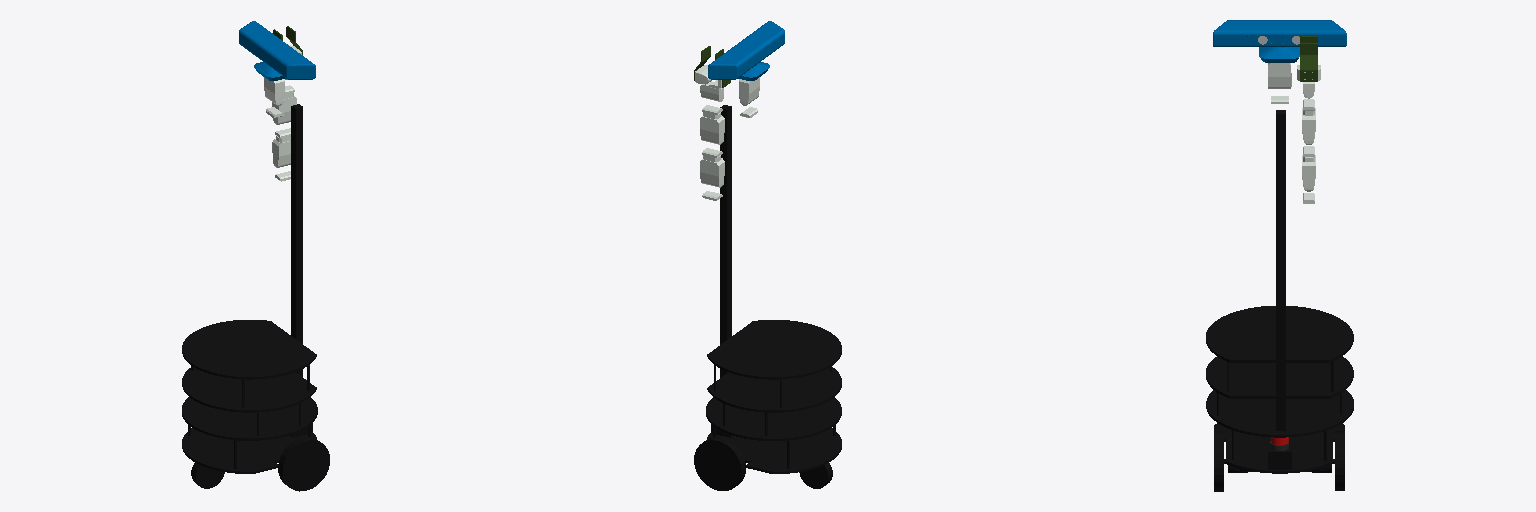
--- Render facts (derived) ---
Views: 3 orthographic renders of the robot side by side, from view 1: azimuth 30°, elevation 25°; view 2: azimuth 150°, elevation 25°; view 3: azimuth 270°, elevation 25°.
Robot: pi_robot — 43 links, 42 joints (7 revolute, 35 fixed); root link base_link; default pose: every joint at zero.
Links seen in each view (by area): view 1: base_link, kinect_link; view 2: base_link, kinect_link, arm_elbow_flex_link, arm_shoulder_lift_link; view 3: base_link, kinect_link, gripper_active_finger_link, bioloid_F4_head_10_link.
Boxes of the visible links, x1,y1,x2,y2 form: base_link: (182,104,329,491); kinect_link: (239,21,315,80); base_link: (694,105,841,490); kinect_link: (708,21,784,80); arm_elbow_flex_link: (700,115,724,144); arm_shoulder_lift_link: (700,158,724,187); base_link: (1206,110,1353,491); kinect_link: (1213,20,1346,62); gripper_active_finger_link: (1300,43,1317,81); bioloid_F4_head_10_link: (1268,63,1291,88).
Bounding box of the posed robot: 0.3138 × 0.3058 × 1.05 m (x, y, z).
Meshes: 8 distinct files referenced, 22 mesh visuals loaded (7 Collada DAE); not drawn: 7 (reference not matched to a file when rendering).

URDF robot description (pi_robot):
<?xml version="1.0" ?>
<!-- =================================================================================== -->
<!-- |    This document was autogenerated by xacro from pi_robot.xacro                 | -->
<!-- |    EDITING THIS FILE BY HAND IS NOT RECOMMENDED                                 | -->
<!-- =================================================================================== -->
<robot name="pi_robot">
  <material name="white">
    <color rgba="0.87 0.90 0.87 1.0"/>
  </material>
  <material name="black">
    <color rgba="0.0 0.0 0.0 1.0"/>
  </material>
  <material name="green">
    <color rgba="0.22 0.32 0.14 1.0"/>
  </material>
  <material name="Green">
    <color rgba="0.0 0.8 0.0 1.0"/>
  </material>
  <material name="OffWhite">
    <color rgba="0.8 0.8 0.8 0.9"/>
  </material>
  <!-- base_footprint is a fictitious link(frame) that is on the ground right below base_link origin, navigation stack depends on this frame -->
  <!--
  <link name="base_footprint">
    <inertial>
      <mass value="0.0001" />
      <origin xyz="0 0 0" />
      <inertia ixx="0.0001" ixy="0.0" ixz="0.0"
              iyy="0.0001" iyz="0.0" 
              izz="0.0001" />
    </inertial>

    <visual>
      <origin xyz="0 0 0" rpy="0 0 0" />
      <geometry>
        <box size="0.05 0.05 0.001" />
      </geometry>
         <material name="green">
            <color rgba="0.2 0.8 0.2 1.0"/>
         </material>   
    </visual>

    <collision>
      <origin xyz="0 0 0" rpy="0 0 0" />
      <geometry>
       <box size="0.001 0.001 0.001" />
      </geometry>
    </collision>
  </link>
  -->
  <link name="base_link">
    <inertial>
      <mass value="5.0"/>
      <origin xyz="0 0 0"/>
      <inertia ixx="1.0" ixy="0.0" ixz="0.0" iyy="1.0" iyz="0.0" izz="1.0"/>
    </inertial>
    <visual>
      <origin rpy="0 0 -1.57" xyz="0 0 0.073"/>
      <geometry>
        <!--
         <cylinder length="0.3" radius=".15"/>
         -->
        <mesh filename="package://rbx1_description/meshes/pi_robot.dae" scale="0.0254 0.0254 0.0254"/>
      </geometry>
      <material name="grey">
        <color rgba="0.1 0.1 0.1 10"/>
      </material>
    </visual>
    <collision>
      <origin rpy="0 0 0" xyz="0 0 0.16"/>
      <geometry>
        <cylinder length="0.32" radius=".15"/>
      </geometry>
    </collision>
  </link>
  <!--
  <joint name="base_joint" type="fixed">
    <origin xyz="0 0 -0.073" rpy="0 0 0" />        
    <parent link="base_link"/>
    <child link="base_footprint" />
  </joint>
  -->
  <link name="base_laser_bottom">
    <visual>
      <origin rpy="0 0 0" xyz="0 0 0"/>
      <geometry>
        <box size="0.05 0.05 0.041"/>
      </geometry>
      <material name="black">
        <color rgba="0.1 0.1 0.1 1.0"/>
      </material>
    </visual>
    <collision>
      <origin rpy="0 0 0" xyz="0 0 0"/>
      <geometry>
        <box size="0.05 0.05 0.041"/>
      </geometry>
    </collision>
    <inertial>
      <mass value="0.1"/>
      <inertia ixx="0.001" ixy="0.0" ixz="0.0" iyy="0.001" iyz="0.0" izz="0.001"/>
    </inertial>
  </link>
  <joint name="base_laser_bottom_joint" type="fixed">
    <parent link="base_link"/>
    <child link="base_laser_bottom"/>
    <origin rpy="0 0 0" xyz="0.123 0 0.0995"/>
  </joint>
  <link name="base_laser_middle">
    <visual>
      <origin rpy="0 0 0" xyz="0 0 0"/>
      <geometry>
        <cylinder length="0.0115" radius=".02"/>
      </geometry>
      <material name="dark_grey">
        <color rgba="0.2 0.2 0.2 1.0"/>
      </material>
    </visual>
    <collision>
      <origin rpy="0 0 0" xyz="0 0 0"/>
      <geometry>
        <cylinder length="0.0115" radius=".02"/>
      </geometry>
    </collision>
    <inertial>
      <mass value="0.1"/>
      <inertia ixx="0.001" ixy="0.0" ixz="0.0" iyy="0.001" iyz="0.0" izz="0.001"/>
    </inertial>
  </link>
  <joint name="base_laser_middle_joint" type="fixed">
    <parent link="base_laser_bottom"/>
    <child link="base_laser_middle"/>
    <origin rpy="0 0 0" xyz="0 0 0.02625"/>
  </joint>
  <link name="base_laser">
    <visual>
      <origin rpy="0 0 0" xyz="0 0 0"/>
      <geometry>
        <cylinder length="0.0175" radius=".0185"/>
      </geometry>
      <material name="red">
        <color rgba="0.8 0.1 0.1 1.0"/>
      </material>
    </visual>
    <collision>
      <origin rpy="0 0 0" xyz="0 0 0"/>
      <geometry>
        <cylinder length="0.0175" radius=".0185"/>
      </geometry>
    </collision>
    <inertial>
      <mass value="0.1"/>
      <inertia ixx="0.001" ixy="0.0" ixz="0.0" iyy="0.001" iyz="0.0" izz="0.001"/>
    </inertial>
  </link>
  <joint name="base_laser_joint" type="fixed">
    <parent link="base_laser_middle"/>
    <child link="base_laser"/>
    <origin rpy="0 0 0" xyz="0 0 0.0145"/>
  </joint>
  <!-- Attach the head -->
  <link name="head_base_link"/>
  <joint name="head_base_joint" type="fixed">
    <origin xyz="0.064 0 0.871"/>
    <parent link="base_link"/>
    <child link="head_base_link"/>
  </joint>
  <link name="head_pan_link"/>
  <joint name="fake_head_pan_joint" type="fixed">
    <origin rpy="0 1.570795 1.570795" xyz="0 0 0"/>
    <parent link="head_pan_servo_link"/>
    <child link="head_pan_link"/>
  </joint>
  <link name="head_tilt_link"/>
  <joint name="fake_head_tilt_joint" type="fixed">
    <origin rpy="0 0 3.14159" xyz="0 0 0"/>
    <parent link="head_tilt_servo_link"/>
    <child link="head_tilt_link"/>
  </joint>
  <joint name="head_pan_servo_joint" type="fixed">
    <origin rpy="1.570795 0 -1.570795" xyz="0 0 -0.019"/>
    <parent link="head_base_link"/>
    <child link="head_pan_servo_link"/>
  </joint>
  <link name="head_pan_servo_link">
    <inertial>
      <mass value="0.00001"/>
      <origin xyz="0 0 0"/>
      <inertia ixx="1.0" ixy="0.0" ixz="0.0" iyy="1.0" iyz="0.0" izz="1.0"/>
    </inertial>
    <visual>
      <origin rpy="0 0 0" xyz=" 0 0 0 "/>
      <geometry>
        <mesh filename="package://rbx1_description/meshes/ax12_box.dae" scale="100 100 100"/>
      </geometry>
      <material name="black"/>
    </visual>
    <collision>
      <origin rpy="0 0 0" xyz="0.0 0.0 -0.01241"/>
      <geometry>
        <box size="0.025 0.038 0.04762"/>
      </geometry>
    </collision>
  </link>
  <joint name="head_pan_joint" type="revolute">
    <origin rpy="-1.570795 1.570795 3.14159" xyz="0 0.024 0.0"/>
    <parent link="head_pan_servo_link"/>
    <axis xyz="0 0 -1"/>
    <limit effort="30" lower="-2.9" upper="2.9" velocity="1.0"/>
    <child link="bioloid_F3_head_10_link"/>
  </joint>
  <link name="bioloid_F3_head_10_link">
    <inertial>
      <mass value="0.00001"/>
      <origin xyz="0 0 0"/>
      <inertia ixx="1.0" ixy="0.0" ixz="0.0" iyy="1.0" iyz="0.0" izz="1.0"/>
    </inertial>
    <visual>
      <origin rpy="0 0 0" xyz=" 0 0 0 "/>
      <geometry>
        <mesh filename="package://rbx1_description/meshes/F3.dae" scale="0.001 0.001 0.001"/>
      </geometry>
      <material name="white"/>
    </visual>
    <collision>
      <origin rpy="0 0 0" xyz="0.0 0.0 -0.0045"/>
      <geometry>
        <box size="0.025 0.038 0.009"/>
      </geometry>
    </collision>
  </link>
  <joint name="head_tilt_servo_joint" type="fixed">
    <origin rpy="0 3.14159 0" xyz="0 0 -0.0415"/>
    <parent link="bioloid_F3_head_10_link"/>
    <child link="head_tilt_servo_link"/>
  </joint>
  <link name="head_tilt_servo_link">
    <inertial>
      <mass value="0.00001"/>
      <origin xyz="0 0 0"/>
      <inertia ixx="1.0" ixy="0.0" ixz="0.0" iyy="1.0" iyz="0.0" izz="1.0"/>
    </inertial>
    <visual>
      <origin rpy="0 0 0" xyz=" 0 0 0 "/>
      <geometry>
        <mesh filename="package://rbx1_description/meshes/ax12_box.dae" scale="100 100 100"/>
      </geometry>
      <material name="black"/>
    </visual>
    <collision>
      <origin rpy="0 0 0" xyz="0.0 0.0 -0.01241"/>
      <geometry>
        <box size="0.025 0.038 0.04762"/>
      </geometry>
    </collision>
  </link>
  <joint name="head_tilt_joint" type="revolute">
    <origin rpy="0 0 0" xyz="0 0 0"/>
    <parent link="head_tilt_servo_link"/>
    <axis xyz="0 -1 0"/>
    <limit effort="30" lower="-2.9" upper="2.9" velocity="1.0"/>
    <child link="bioloid_F4_head_10_link"/>
  </joint>
  <link name="bioloid_F4_head_10_link">
    <inertial>
      <mass value="0.00001"/>
      <origin xyz="0 0 0"/>
      <inertia ixx="1.0" ixy="0.0" ixz="0.0" iyy="1.0" iyz="0.0" izz="1.0"/>
    </inertial>
    <visual>
      <origin rpy="0 0 0" xyz=" 0 0 0 "/>
      <geometry>
        <mesh filename="package://rbx1_description/meshes/F4.dae" scale="0.001 0.001 0.001"/>
      </geometry>
      <material name="white"/>
    </visual>
    <collision>
      <origin rpy="0 0 0" xyz="0.0 0.0 0.0215"/>
      <geometry>
        <box size="0.028 0.0485 0.065"/>
      </geometry>
    </collision>
  </link>
  <joint name="head_tilt_bracket_joint" type="fixed">
    <origin rpy="0 0 0" xyz="0 0 0.0545"/>
    <parent link="bioloid_F4_head_10_link"/>
    <child link="head_tilt_bracket_link"/>
  </joint>
  <link name="head_tilt_bracket_link">
    <inertial>
      <mass value="0.00001"/>
      <origin xyz="0 0 0"/>
      <inertia ixx="1.0" ixy="0.0" ixz="0.0" iyy="1.0" iyz="0.0" izz="1.0"/>
    </inertial>
    <visual>
      <origin rpy="0 0 0" xyz=" 0 0 0 "/>
      <geometry>
        <mesh filename="package://rbx1_description/meshes/F10.dae" scale="0.001 0.001 0.001"/>
      </geometry>
      <material name="white"/>
    </visual>
    <collision>
      <origin rpy="0 0 0" xyz="0.0 0.0 0.0"/>
      <geometry>
        <box size="0.025 0.038 0.004"/>
      </geometry>
    </collision>
  </link>
  <joint name="base_kinect_joint" type="fixed">
    <origin rpy="0 0 3.14159" xyz="-0.03 0 0.058"/>
    <parent link="head_tilt_bracket_link"/>
    <child link="kinect_link"/>
  </joint>
  <link name="kinect_link">
    <inertial>
      <mass value="0.00001"/>
      <origin xyz="0 0 0"/>
      <inertia ixx="1.0" ixy="0.0" ixz="0.0" iyy="1.0" iyz="0.0" izz="1.0"/>
    </inertial>
    <visual>
      <origin rpy="0 0 0" xyz="0 0 0 "/>
      <geometry>
        <mesh filename="package://rbx1_description/meshes/kinect.dae" scale="100 100 100"/>
      </geometry>
    </visual>
    <collision>
      <origin rpy="0 0 0" xyz="-0.0275 0.0 0.0"/>
      <geometry>
        <box size="0.0730 .2760 0.0720"/>
      </geometry>
    </collision>
  </link>
  <joint name="kinect_depth_joint" type="fixed">
    <origin rpy="0 0 0" xyz="0 0.018 0"/>
    <parent link="kinect_link"/>
    <child link="kinect_depth_frame"/>
  </joint>
  <link name="kinect_depth_frame">
    <inertial>
      <mass value="0.000001"/>
      <origin xyz="0 0 0"/>
      <inertia ixx="0.0001" ixy="0.0" ixz="0.0" iyy="0.0001" iyz="0.0" izz="0.0001"/>
    </inertial>
  </link>
  <joint name="kinect_depth_optical_joint" type="fixed">
    <origin rpy="-1.570795 0 -1.570795" xyz="0 0 0"/>
    <parent link="kinect_depth_frame"/>
    <child link="kinect_depth_optical_frame"/>
  </joint>
  <link name="kinect_depth_optical_frame">
    <inertial>
      <mass value="0.000001"/>
      <origin xyz="0 0 0"/>
      <inertia ixx="0.0001" ixy="0.0" ixz="0.0" iyy="0.0001" iyz="0.0" izz="0.0001"/>
    </inertial>
  </link>
  <joint name="kinect_rgb_joint" type="fixed">
    <origin rpy="0 0 0" xyz="0 -0.005 0"/>
    <parent link="kinect_link"/>
    <child link="kinect_rgb_frame"/>
  </joint>
  <link name="kinect_rgb_frame">
    <inertial>
      <mass value="0.000001"/>
      <origin xyz="0 0 0"/>
      <inertia ixx="0.0001" ixy="0.0" ixz="0.0" iyy="0.0001" iyz="0.0" izz="0.0001"/>
    </inertial>
  </link>
  <joint name="kinect_rgb_optical_joint" type="fixed">
    <origin rpy="-1.570795 0 -1.570795" xyz="0 0 0"/>
    <parent link="kinect_rgb_frame"/>
    <child link="kinect_rgb_optical_frame"/>
  </joint>
  <link name="kinect_rgb_optical_frame">
    <inertial>
      <mass value="0.000001"/>
      <origin xyz="0 0 0"/>
      <inertia ixx="0.0001" ixy="0.0" ixz="0.0" iyy="0.0001" iyz="0.0" izz="0.0001"/>
    </inertial>
  </link>
  <link name="left_eye_link">
    <visual>
      <origin rpy="0 1.57 0" xyz="0 0 0"/>
      <geometry>
        <cylinder length="0.01" radius="0.01"/>
      </geometry>
      <material name="OffWhite"/>
    </visual>
    <collision>
      <origin rpy="0 1.57 0" xyz="0 0 0"/>
      <geometry>
        <cylinder length="0.01" radius="0.01"/>
      </geometry>
    </collision>
    <inertial>
      <mass value="0.00001"/>
      <origin xyz="0 0 0"/>
      <inertia ixx="1.0" ixy="0.0" ixz="0.0" iyy="1.0" iyz="0.0" izz="1.0"/>
    </inertial>
  </link>
  <link name="right_eye_link">
    <visual>
      <origin rpy="0 1.57 0" xyz="0 0 0"/>
      <geometry>
        <cylinder length="0.01" radius="0.01"/>
      </geometry>
      <material name="OffWhite"/>
    </visual>
    <collision>
      <origin rpy="0 1.57 0" xyz="0 0 0"/>
      <geometry>
        <cylinder length="0.01" radius="0.01"/>
      </geometry>
    </collision>
    <inertial>
      <mass value="0.00001"/>
      <origin xyz="0 0 0"/>
      <inertia ixx="1.0" ixy="0.0" ixz="0.0" iyy="1.0" iyz="0.0" izz="1.0"/>
    </inertial>
  </link>
  <joint name="left_eye_joint" type="fixed">
    <parent link="kinect_link"/>
    <child link="left_eye_link"/>
    <origin rpy="0 0 0" xyz="-0.005 0.035 0"/>
  </joint>
  <joint name="right_eye_joint" type="fixed">
    <parent link="kinect_link"/>
    <child link="right_eye_link"/>
    <origin rpy="0 0 0" xyz="-0.005 -0.035 0"/>
  </joint>
  <!-- Attach the arm -->
  <link name="arm_base_link"/>
  <joint name="arm_base_joint" type="fixed">
    <origin rpy="0 0 1.57" xyz="0.125 0.06 0.6615"/>
    <parent link="base_link"/>
    <child link="arm_base_link"/>
  </joint>
  <link name="gripper_link"/>
  <joint name="gripper_link_joint" type="fixed">
    <origin rpy="0 -1.570795 0" xyz="0 0 .112"/>
    <parent link="arm_wrist_flex_link"/>
    <child link="gripper_link"/>
  </joint>
  <joint name="arm_shoulder_pan_servo_joint" type="fixed">
    <origin rpy="1.570795 0 1.570795" xyz="0 0 0"/>
    <parent link="arm_base_link"/>
    <child link="arm_shoulder_pan_servo_link"/>
  </joint>
  <link name="arm_shoulder_pan_servo_link">
    <inertial>
      <mass value="0.00001"/>
      <origin xyz="0 0 0"/>
      <inertia ixx="1.0" ixy="0.0" ixz="0.0" iyy="1.0" iyz="0.0" izz="1.0"/>
    </inertial>
    <visual>
      <origin rpy="0 0 0" xyz=" 0 0 0 "/>
      <geometry>
        <mesh filename="package://rbx1_description/meshes/ax12_box.dae" scale="100 100 100"/>
      </geometry>
      <material name="black"/>
    </visual>
    <collision>
      <origin rpy="0 0 0" xyz="0.0 0.0 -0.01241"/>
      <geometry>
        <box size="0.025 0.038 0.04762"/>
      </geometry>
    </collision>
  </link>
  <joint name="arm_shoulder_pan_joint" type="revolute">
    <origin rpy="-1.570795 1.570795 3.14159" xyz="0 0.019 0"/>
    <axis xyz="0 0 -1"/>
    <limit effort="30" lower="-2.617" upper="2.617" velocity="0.785"/>
    <parent link="arm_shoulder_pan_servo_link"/>
    <child link="arm_shoulder_pan_link"/>
  </joint>
  <link name="arm_shoulder_pan_link">
    <inertial>
      <mass value="0.00001"/>
      <origin xyz="0 0 0"/>
      <inertia ixx="1.0" ixy="0.0" ixz="0.0" iyy="1.0" iyz="0.0" izz="1.0"/>
    </inertial>
    <visual>
      <origin rpy="0 0 0" xyz=" 0 0 0 "/>
      <geometry>
        <mesh filename="package://rbx1_description/meshes/F3.dae" scale="0.001 0.001 0.001"/>
      </geometry>
      <material name="white"/>
    </visual>
    <collision>
      <origin rpy="0 0 0" xyz="0.0 0.0 -0.0045"/>
      <geometry>
        <box size="0.025 0.038 0.009"/>
      </geometry>
    </collision>
  </link>
  <joint name="arm_shoulder_lift_servo_joint" type="fixed">
    <origin rpy="0 3.14159 0" xyz="0 0 -0.0415"/>
    <parent link="arm_shoulder_pan_link"/>
    <child link="arm_shoulder_lift_servo_link"/>
  </joint>
  <link name="arm_shoulder_lift_servo_link">
    <inertial>
      <mass value="0.00001"/>
      <origin xyz="0 0 0"/>
      <inertia ixx="1.0" ixy="0.0" ixz="0.0" iyy="1.0" iyz="0.0" izz="1.0"/>
    </inertial>
    <visual>
      <origin rpy="0 0 0" xyz=" 0 0 0 "/>
      <geometry>
        <mesh filename="package://rbx1_description/meshes/ax12_box.dae" scale="100 100 100"/>
      </geometry>
      <material name="black"/>
    </visual>
    <collision>
      <origin rpy="0 0 0" xyz="0.0 0.0 -0.01241"/>
      <geometry>
        <box size="0.025 0.038 0.04762"/>
      </geometry>
    </collision>
  </link>
  <joint name="arm_shoulder_lift_joint" type="revolute">
    <origin rpy="0 0 0" xyz="0 0 0"/>
    <axis xyz="0 1 0"/>
    <limit effort="30" lower="-2.617" upper="2.617" velocity="1.571"/>
    <parent link="arm_shoulder_lift_servo_link"/>
    <child link="arm_shoulder_lift_link"/>
  </joint>
  <link name="arm_shoulder_lift_link">
    <inertial>
      <mass value="0.00001"/>
      <origin xyz="0 0 0"/>
      <inertia ixx="1.0" ixy="0.0" ixz="0.0" iyy="1.0" iyz="0.0" izz="1.0"/>
    </inertial>
    <visual>
      <origin rpy="0 0 0" xyz=" 0 0 0 "/>
      <geometry>
        <mesh filename="package://rbx1_description/meshes/F4.dae" scale="0.001 0.001 0.001"/>
      </geometry>
      <material name="white"/>
    </visual>
    <collision>
      <origin rpy="0 0 0" xyz="0.0 0.0 0.0215"/>
      <geometry>
        <box size="0.028 0.0485 0.065"/>
      </geometry>
    </collision>
  </link>
  <joint name="arm_shoulder_F10_0_joint" type="fixed">
    <origin rpy="0 0 0" xyz="0 0 0.0545"/>
    <parent link="arm_shoulder_lift_link"/>
    <child link="arm_shoulder_F10_0_link"/>
  </joint>
  <link name="arm_shoulder_F10_0_link">
    <inertial>
      <mass value="0.00001"/>
      <origin xyz="0 0 0"/>
      <inertia ixx="1.0" ixy="0.0" ixz="0.0" iyy="1.0" iyz="0.0" izz="1.0"/>
    </inertial>
    <visual>
      <origin rpy="0 0 0" xyz=" 0 0 0 "/>
      <geometry>
        <mesh filename="package://rbx1_description/meshes/F10.dae" scale="0.001 0.001 0.001"/>
      </geometry>
      <material name="white"/>
    </visual>
    <collision>
      <origin rpy="0 0 0" xyz="0.0 0.0 0.0"/>
      <geometry>
        <box size="0.025 0.038 0.004"/>
      </geometry>
    </collision>
  </link>
  <joint name="arm_shoulder_F10_1_joint" type="fixed">
    <origin rpy="0 0 0" xyz="0 0 0.004"/>
    <parent link="arm_shoulder_F10_0_link"/>
    <child link="arm_shoulder_F10_1_link"/>
  </joint>
  <link name="arm_shoulder_F10_1_link">
    <inertial>
      <mass value="0.00001"/>
      <origin xyz="0 0 0"/>
      <inertia ixx="1.0" ixy="0.0" ixz="0.0" iyy="1.0" iyz="0.0" izz="1.0"/>
    </inertial>
    <visual>
      <origin rpy="0 0 0" xyz=" 0 0 0 "/>
      <geometry>
        <mesh filename="package://rbx1_description/meshes/F10.dae" scale="0.001 0.001 0.001"/>
      </geometry>
      <material name="white"/>
    </visual>
    <collision>
      <origin rpy="0 0 0" xyz="0.0 0.0 0.0"/>
      <geometry>
        <box size="0.025 0.038 0.004"/>
      </geometry>
    </collision>
  </link>
  <joint name="arm_shoulder_F10_2_joint" type="fixed">
    <origin rpy="0 0 0" xyz="0 0 0.004"/>
    <parent link="arm_shoulder_F10_1_link"/>
    <child link="arm_shoulder_F10_2_link"/>
  </joint>
  <link name="arm_shoulder_F10_2_link">
    <inertial>
      <mass value="0.00001"/>
      <origin xyz="0 0 0"/>
      <inertia ixx="1.0" ixy="0.0" ixz="0.0" iyy="1.0" iyz="0.0" izz="1.0"/>
    </inertial>
    <visual>
      <origin rpy="0 0 0" xyz=" 0 0 0 "/>
      <geometry>
        <mesh filename="package://rbx1_description/meshes/F10.dae" scale="0.001 0.001 0.001"/>
      </geometry>
      <material name="white"/>
    </visual>
    <collision>
      <origin rpy="0 0 0" xyz="0.0 0.0 0.0"/>
      <geometry>
        <box size="0.025 0.038 0.004"/>
      </geometry>
    </collision>
  </link>
  <joint name="arm_shoulder_F3_0_joint" type="fixed">
    <origin rpy="0 3.14159 0" xyz="0 0 0.002"/>
    <parent link="arm_shoulder_F10_2_link"/>
    <child link="arm_shoulder_F3_0_link"/>
  </joint>
  <link name="arm_shoulder_F3_0_link">
    <inertial>
      <mass value="0.00001"/>
      <origin xyz="0 0 0"/>
      <inertia ixx="1.0" ixy="0.0" ixz="0.0" iyy="1.0" iyz="0.0" izz="1.0"/>
    </inertial>
    <visual>
      <origin rpy="0 0 0" xyz=" 0 0 0 "/>
      <geometry>
        <mesh filename="package://rbx1_description/meshes/F3.dae" scale="0.001 0.001 0.001"/>
      </geometry>
      <material name="white"/>
    </visual>
    <collision>
      <origin rpy="0 0 0" xyz="0.0 0.0 -0.0045"/>
      <geometry>
        <box size="0.025 0.038 0.009"/>
      </geometry>
    </collision>
  </link>
  <joint name="arm_elbow_flex_servo_joint" type="fixed">
    <origin rpy="0 3.14159 0" xyz="0 0 -0.0415"/>
    <parent link="arm_shoulder_F3_0_link"/>
    <child link="arm_elbow_flex_servo_link"/>
  </joint>
  <link name="arm_elbow_flex_servo_link">
    <inertial>
      <mass value="0.00001"/>
      <origin xyz="0 0 0"/>
      <inertia ixx="1.0" ixy="0.0" ixz="0.0" iyy="1.0" iyz="0.0" izz="1.0"/>
    </inertial>
    <visual>
      <origin rpy="0 0 0" xyz=" 0 0 0 "/>
      <geometry>
        <mesh filename="package://rbx1_description/meshes/ax12_box.dae" scale="100 100 100"/>
      </geometry>
      <material name="black"/>
    </visual>
    <collision>
      <origin rpy="0 0 0" xyz="0.0 0.0 -0.01241"/>
      <geometry>
        <box size="0.025 0.038 0.04762"/>
      </geometry>
    </collision>
  </link>
  <joint name="arm_elbow_flex_joint" type="revolute">
    <origin rpy="0 0 0" xyz="0 0 0"/>
    <axis xyz="0 1 0"/>
    <limit effort="30" lower="-2.617" upper="2.617" velocity="1.571"/>
    <parent link="arm_elbow_flex_servo_link"/>
    <child link="arm_elbow_flex_link"/>
  </joint>
  <link name="arm_elbow_flex_link">
    <inertial>
      <mass value="0.00001"/>
      <origin xyz="0 0 0"/>
      <inertia ixx="1.0" ixy="0.0" ixz="0.0" iyy="1.0" iyz="0.0" izz="1.0"/>
    </inertial>
    <visual>
      <origin rpy="0 0 0" xyz=" 0 0 0 "/>
      <geometry>
        <mesh filename="package://rbx1_description/meshes/F4.dae" scale="0.001 0.001 0.001"/>
      </geometry>
      <material name="white"/>
    </visual>
    <collision>
      <origin rpy="0 0 0" xyz="0.0 0.0 0.0215"/>
      <geometry>
        <box size="0.028 0.0485 0.065"/>
      </geometry>
    </collision>
  </link>
  <joint name="arm_elbow_F10_0_joint" type="fixed">
    <origin rpy="0 0 0" xyz="0 0 0.0545"/>
    <parent link="arm_elbow_flex_link"/>
    <child link="arm_elbow_F10_0_link"/>
  </joint>
  <link name="arm_elbow_F10_0_link">
    <inertial>
      <mass value="0.00001"/>
      <origin xyz="0 0 0"/>
      <inertia ixx="1.0" ixy="0.0" ixz="0.0" iyy="1.0" iyz="0.0" izz="1.0"/>
    </inertial>
    <visual>
      <origin rpy="0 0 0" xyz=" 0 0 0 "/>
      <geometry>
        <mesh filename="package://rbx1_description/meshes/F10.dae" scale="0.001 0.001 0.001"/>
      </geometry>
      <material name="white"/>
    </visual>
    <collision>
      <origin rpy="0 0 0" xyz="0.0 0.0 0.0"/>
      <geometry>
        <box size="0.025 0.038 0.004"/>
      </geometry>
    </collision>
  </link>
  <joint name="arm_elbow_F10_1_joint" type="fixed">
    <origin rpy="0 0 0" xyz="0 0 0.004"/>
    <parent link="arm_elbow_F10_0_link"/>
    <child link="arm_elbow_F10_1_link"/>
  </joint>
  <link name="arm_elbow_F10_1_link">
    <inertial>
      <mass value="0.00001"/>
      <origin xyz="0 0 0"/>
      <inertia ixx="1.0" ixy="0.0" ixz="0.0" iyy="1.0" iyz="0.0" izz="1.0"/>
    </inertial>
    <visual>
      <origin rpy="0 0 0" xyz=" 0 0 0 "/>
      <geometry>
        <mesh filename="package://rbx1_description/meshes/F10.dae" scale="0.001 0.001 0.001"/>
      </geometry>
      <material name="white"/>
    </visual>
    <collision>
      <origin rpy="0 0 0" xyz="0.0 0.0 0.0"/>
      <geometry>
        <box size="0.025 0.038 0.004"/>
      </geometry>
    </collision>
  </link>
  <joint name="arm_elbow_F10_2_joint" type="fixed">
    <origin rpy="0 0 0" xyz="0 0 0.004"/>
    <parent link="arm_elbow_F10_1_link"/>
    <child link="arm_elbow_F10_2_link"/>
  </joint>
  <link name="arm_elbow_F10_2_link">
    <inertial>
      <mass value="0.00001"/>
      <origin xyz="0 0 0"/>
      <inertia ixx="1.0" ixy="0.0" ixz="0.0" iyy="1.0" iyz="0.0" izz="1.0"/>
    </inertial>
    <visual>
      <origin rpy="0 0 0" xyz=" 0 0 0 "/>
      <geometry>
        <mesh filename="package://rbx1_description/meshes/F10.dae" scale="0.001 0.001 0.001"/>
      </geometry>
      <material name="white"/>
    </visual>
    <collision>
      <origin rpy="0 0 0" xyz="0.0 0.0 0.0"/>
      <geometry>
        <box size="0.025 0.038 0.004"/>
      </geometry>
    </collision>
  </link>
  <joint name="arm_elbow_F3_0_joint" type="fixed">
    <origin rpy="0 3.14159 0" xyz="0 0 0.002"/>
    <parent link="arm_elbow_F10_2_link"/>
    <child link="arm_elbow_F3_0_link"/>
  </joint>
  <link name="arm_elbow_F3_0_link">
    <inertial>
      <mass value="0.00001"/>
      <origin xyz="0 0 0"/>
      <inertia ixx="1.0" ixy="0.0" ixz="0.0" iyy="1.0" iyz="0.0" izz="1.0"/>
    </inertial>
    <visual>
      <origin rpy="0 0 0" xyz=" 0 0 0 "/>
      <geometry>
        <mesh filename="package://rbx1_description/meshes/F3.dae" scale="0.001 0.001 0.001"/>
      </geometry>
      <material name="white"/>
    </visual>
    <collision>
      <origin rpy="0 0 0" xyz="0.0 0.0 -0.0045"/>
      <geometry>
        <box size="0.025 0.038 0.009"/>
      </geometry>
    </collision>
  </link>
  <joint name="arm_wrist_flex_servo_joint" type="fixed">
    <origin rpy="0 3.14159 0" xyz="0 0 -0.0415"/>
    <parent link="arm_elbow_F3_0_link"/>
    <child link="arm_wrist_flex_servo_link"/>
  </joint>
  <link name="arm_wrist_flex_servo_link">
    <inertial>
      <mass value="0.00001"/>
      <origin xyz="0 0 0"/>
      <inertia ixx="1.0" ixy="0.0" ixz="0.0" iyy="1.0" iyz="0.0" izz="1.0"/>
    </inertial>
    <visual>
      <origin rpy="0 0 0" xyz=" 0 0 0 "/>
      <geometry>
        <mesh filename="package://rbx1_description/meshes/ax12_box.dae" scale="100 100 100"/>
      </geometry>
      <material name="black"/>
    </visual>
    <collision>
      <origin rpy="0 0 0" xyz="0.0 0.0 -0.01241"/>
      <geometry>
        <box size="0.025 0.038 0.04762"/>
      </geometry>
    </collision>
  </link>
  <joint name="arm_wrist_flex_joint" type="revolute">
    <origin rpy="0 0 0" xyz="0 0 0"/>
    <axis xyz="0 1 0"/>
    <limit effort="30" lower="-1.745" upper="1.745" velocity="1.571"/>
    <parent link="arm_wrist_flex_servo_link"/>
    <child link="arm_wrist_flex_link"/>
  </joint>
  <link name="arm_wrist_flex_link">
    <inertial>
      <mass value="0.00001"/>
      <origin xyz="0 0 0"/>
      <inertia ixx="1.0" ixy="0.0" ixz="0.0" iyy="1.0" iyz="0.0" izz="1.0"/>
    </inertial>
    <visual>
      <origin rpy="0 0 0" xyz=" 0 0 0 "/>
      <geometry>
        <mesh filename="package://rbx1_description/meshes/F2.dae" scale="0.001 0.001 0.001"/>
      </geometry>
      <material name="white"/>
    </visual>
    <collision>
      <origin rpy="0 0 0" xyz="0.0 0.0 0.00775"/>
      <geometry>
        <box size="0.025 0.0485 0.0375"/>
      </geometry>
    </collision>
  </link>
  <joint name="arm_wrist_F3_0_joint" type="fixed">
    <origin rpy="0 3.14159 -1.570795" xyz="0 0.016 0.0265"/>
    <parent link="arm_wrist_flex_link"/>
    <child link="arm_wrist_F3_0_link"/>
  </joint>
  <link name="arm_wrist_F3_0_link">
    <inertial>
      <mass value="0.00001"/>
      <origin xyz="0 0 0"/>
      <inertia ixx="1.0" ixy="0.0" ixz="0.0" iyy="1.0" iyz="0.0" izz="1.0"/>
    </inertial>
    <visual>
      <origin rpy="0 0 0" xyz=" 0 0 0 "/>
      <geometry>
        <mesh filename="package://rbx1_description/meshes/F3.dae" scale="0.001 0.001 0.001"/>
      </geometry>
      <material name="white"/>
    </visual>
    <collision>
      <origin rpy="0 0 0" xyz="0.0 0.0 -0.0045"/>
      <geometry>
        <box size="0.025 0.038 0.009"/>
      </geometry>
    </collision>
  </link>
  <joint name="gripper_servo_joint" type="fixed">
    <origin rpy="3.14159 1.570795 0" xyz="-0.02275 0 -0.019"/>
    <parent link="arm_wrist_F3_0_link"/>
    <child link="gripper_servo_link"/>
  </joint>
  <link name="gripper_servo_link">
    <inertial>
      <mass value="0.00001"/>
      <origin xyz="0 0 0"/>
      <inertia ixx="1.0" ixy="0.0" ixz="0.0" iyy="1.0" iyz="0.0" izz="1.0"/>
    </inertial>
    <visual>
      <origin rpy="0 0 0" xyz=" 0 0 0 "/>
      <geometry>
        <mesh filename="package://rbx1_description/meshes/ax12_box.dae" scale="100 100 100"/>
      </geometry>
      <material name="black"/>
    </visual>
    <collision>
      <origin rpy="0 0 0" xyz="0.0 0.0 -0.01241"/>
      <geometry>
        <box size="0.025 0.038 0.04762"/>
      </geometry>
    </collision>
  </link>
  <joint name="gripper_joint" type="revolute">
    <origin rpy="0 0 0" xyz="0 0 0"/>
    <axis xyz="0 1 0"/>
    <limit effort="30" lower="-0.060" upper="0.50" velocity="0.785"/>
    <parent link="gripper_servo_link"/>
    <child link="gripper_active_link"/>
  </joint>
  <link name="gripper_active_link">
    <inertial>
      <mass value="0.00001"/>
      <origin xyz="0 0 0"/>
      <inertia ixx="1.0" ixy="0.0" ixz="0.0" iyy="1.0" iyz="0.0" izz="1.0"/>
    </inertial>
    <visual>
      <origin rpy="0 0 0" xyz=" 0 0 0 "/>
      <geometry>
        <mesh filename="package://rbx1_description/meshes/F2.dae" scale="0.001 0.001 0.001"/>
      </geometry>
      <material name="white"/>
    </visual>
    <collision>
      <origin rpy="0 0 0" xyz="0.0 0.0 0.00775"/>
      <geometry>
        <box size="0.025 0.0485 0.0375"/>
      </geometry>
    </collision>
  </link>
  <joint name="gripper_active_finger_joint" type="fixed">
    <origin rpy="0 0 0" xyz="0 0 0.0265"/>
    <parent link="gripper_active_link"/>
    <child link="gripper_active_finger_link"/>
  </joint>
  <link name="gripper_active_finger_link">
    <inertial>
      <mass value="0.00001"/>
      <origin xyz="0 0 0"/>
      <inertia ixx="1.0" ixy="0.0" ixz="0.0" iyy="1.0" iyz="0.0" izz="1.0"/>
    </inertial>
    <visual>
      <origin rpy="0 0 0" xyz=" 0 0 0 "/>
      <geometry>
        <mesh filename="package://rbx1_description/meshes/finger.dae" scale="0.001 0.001 0.001"/>
      </geometry>
      <material name="green"/>
    </visual>
    <collision>
      <origin rpy="0 0 0" xyz="0.02645 0.0 -0.00655"/>
      <geometry>
        <box size="0.0783 0.03801 0.0193"/>
      </geometry>
    </collision>
  </link>
  <joint name="gripper_static_joint" type="fixed">
    <origin rpy="0 3.14159 0" xyz="0 0 -0.0415"/>
    <parent link="gripper_servo_link"/>
    <child link="gripper_static_link"/>
  </joint>
  <link name="gripper_static_link">
    <inertial>
      <mass value="0.00001"/>
      <origin xyz="0 0 0"/>
      <inertia ixx="1.0" ixy="0.0" ixz="0.0" iyy="1.0" iyz="0.0" izz="1.0"/>
    </inertial>
    <visual>
      <origin rpy="0 0 0" xyz=" 0 0 0 "/>
      <geometry>
        <mesh filename="package://rbx1_description/meshes/F3.dae" scale="0.001 0.001 0.001"/>
      </geometry>
      <material name="white"/>
    </visual>
    <collision>
      <origin rpy="0 0 0" xyz="0.0 0.0 -0.0045"/>
      <geometry>
        <box size="0.025 0.038 0.009"/>
      </geometry>
    </collision>
  </link>
  <joint name="gripper_static_finger_joint" type="fixed">
    <origin rpy="0 0 3.14159" xyz="0 0 0"/>
    <parent link="gripper_static_link"/>
    <child link="gripper_static_finger_link"/>
  </joint>
  <link name="gripper_static_finger_link">
    <inertial>
      <mass value="0.00001"/>
      <origin xyz="0 0 0"/>
      <inertia ixx="1.0" ixy="0.0" ixz="0.0" iyy="1.0" iyz="0.0" izz="1.0"/>
    </inertial>
    <visual>
      <origin rpy="0 0 0" xyz=" 0 0 0 "/>
      <geometry>
        <mesh filename="package://rbx1_description/meshes/finger.dae" scale="0.001 0.001 0.001"/>
      </geometry>
      <material name="green"/>
    </visual>
    <collision>
      <origin rpy="0 0 0" xyz="0.02645 0.0 -0.00655"/>
      <geometry>
        <box size="0.0783 0.03801 0.0193"/>
      </geometry>
    </collision>
  </link>
</robot>
